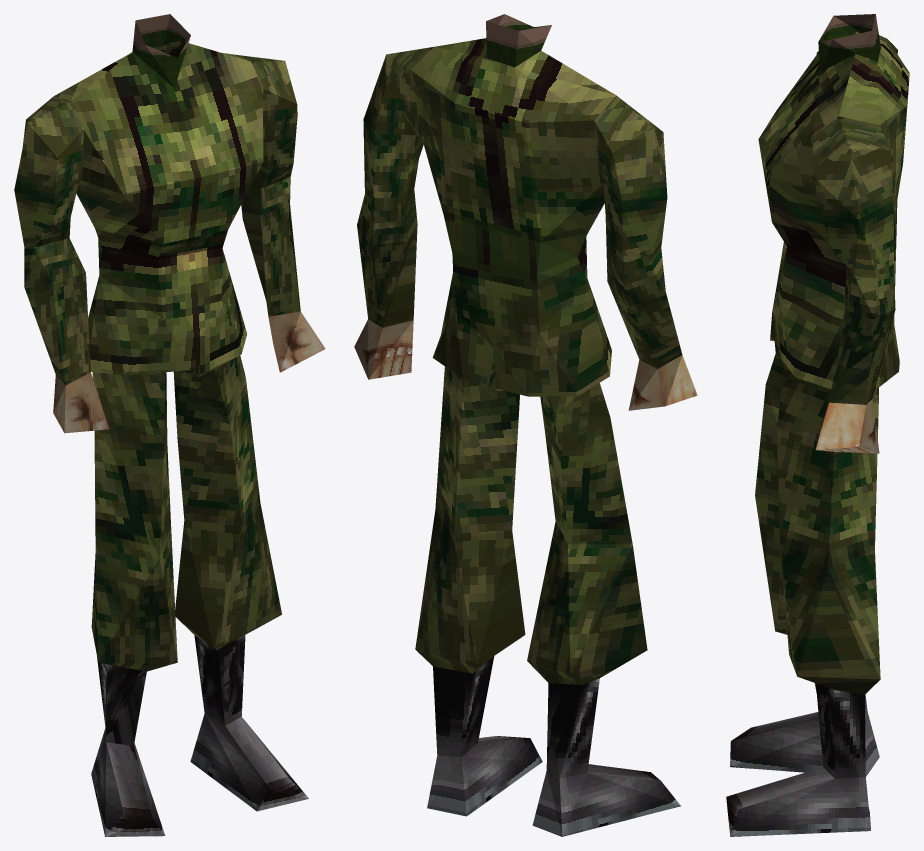
The model's file is primary_338.glb.
The picture shows the model from 3 angles, left to right: view 1: azimuth 30°, elevation 25°; view 2: azimuth 150°, elevation 25°; view 3: azimuth 270°, elevation 25°; orthographic projection. The views are drawn at different scales.
Visible parts, largest first — view 1: Object; view 2: Object; view 3: Object.
Part boxes in pixels (x1,y1,x2,y2): Object: (14,14,325,836); Object: (354,14,697,836); Object: (726,14,909,836).
Bounding box in the file's own units: 0.7427 × 1.83 × 0.3927.
Materials: 85 (85 with a texture image).
